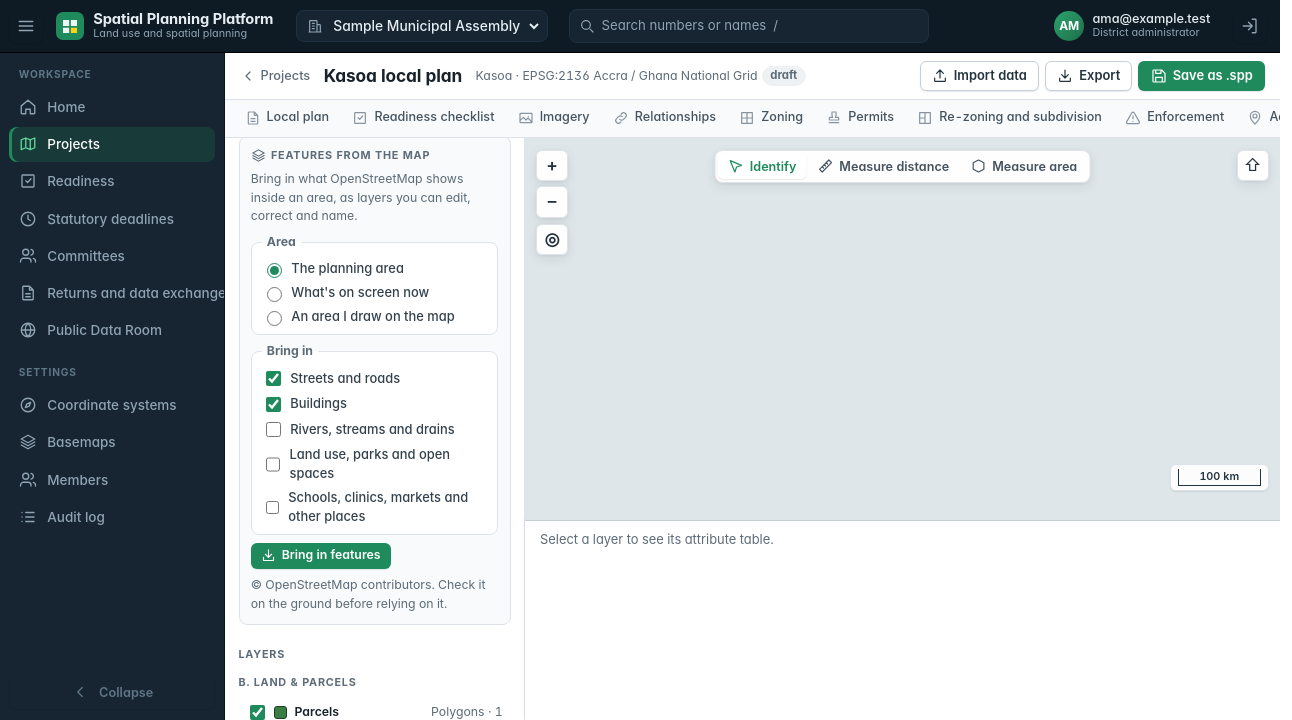
Test: features from the map › brings in OpenStreetMap features inside the planning area and shows what came
The image size is (1292, 720).
(page scrolled)
expect the radio button labelled "The planning area" is checked: met, box 266,263 -> 282,278
Click the checkbox labelled "Rivers, streams and drains".
click(273, 430)  # box 266,422 -> 280,437
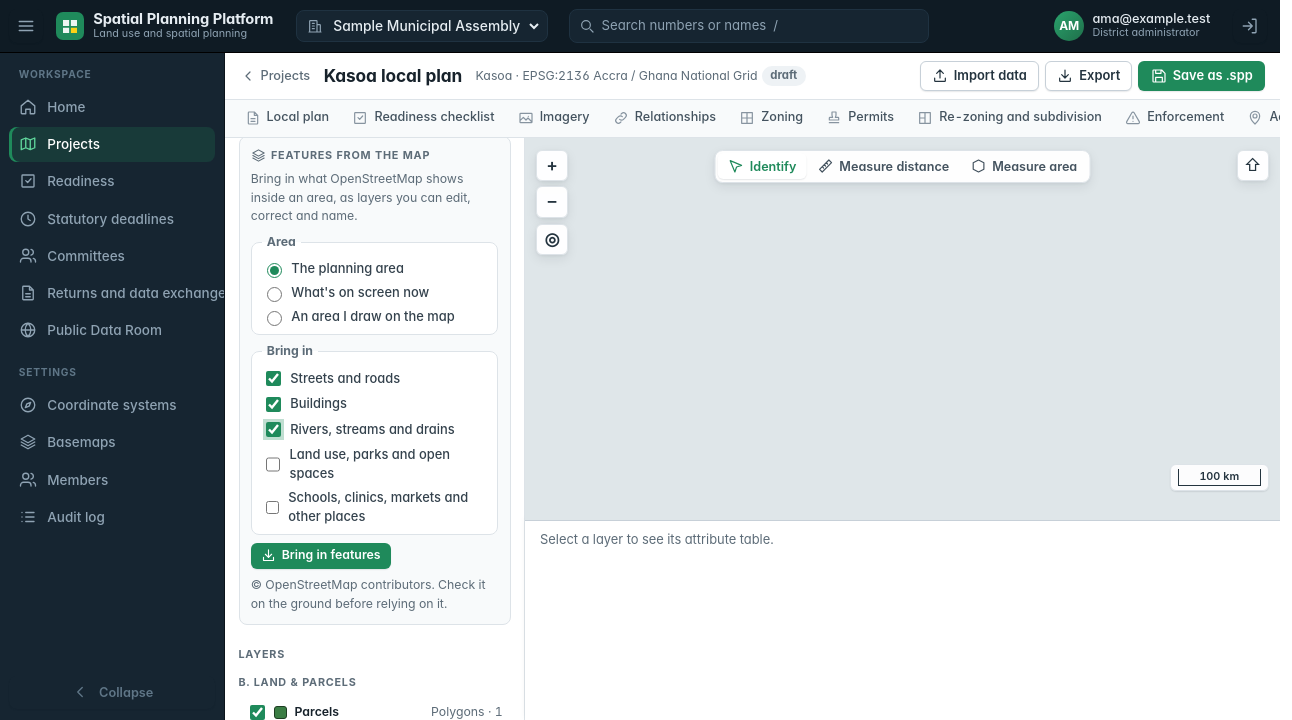
Click the button "Bring in features".
click(321, 556)  # box 251,543 -> 391,569
(page scrolled)
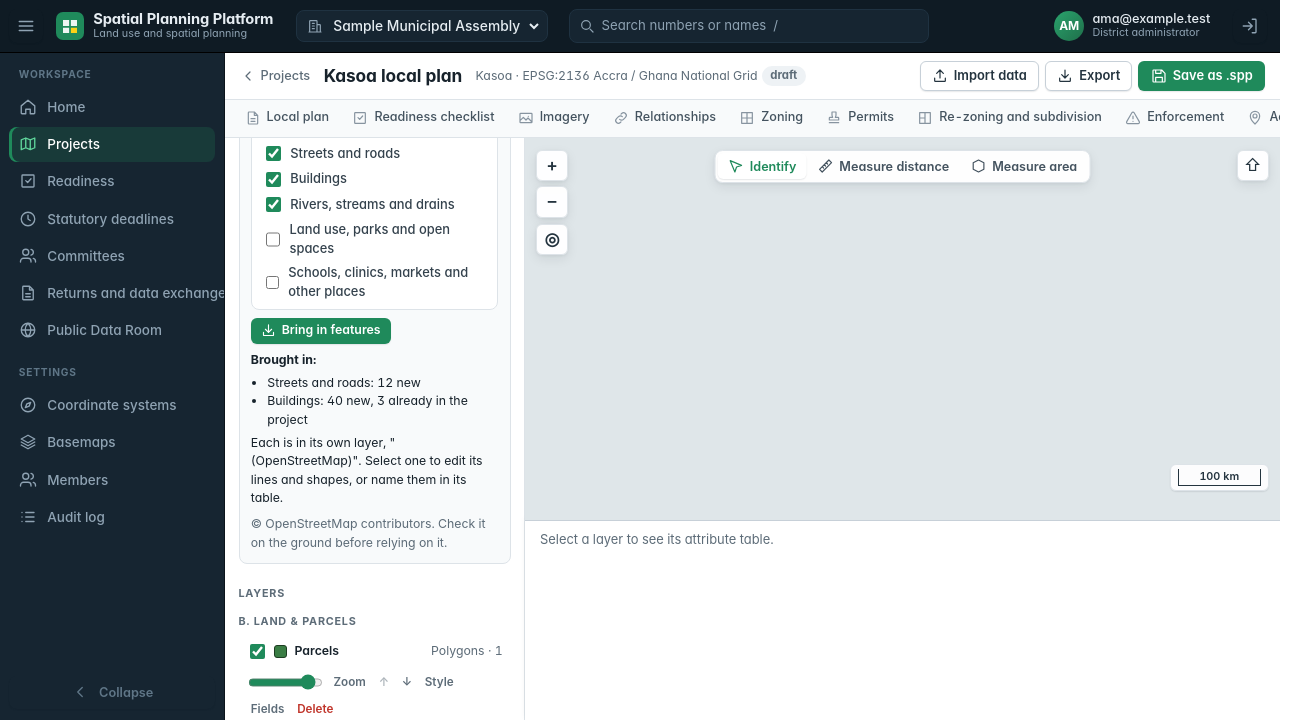
expect the text "Brought in:" shows "Streets and roads: 12 new": met, box 251,351 -> 498,508
expect the text "Brought in:" shows "Buildings: 40 new, 3 already in the project": met, box 251,351 -> 498,508
